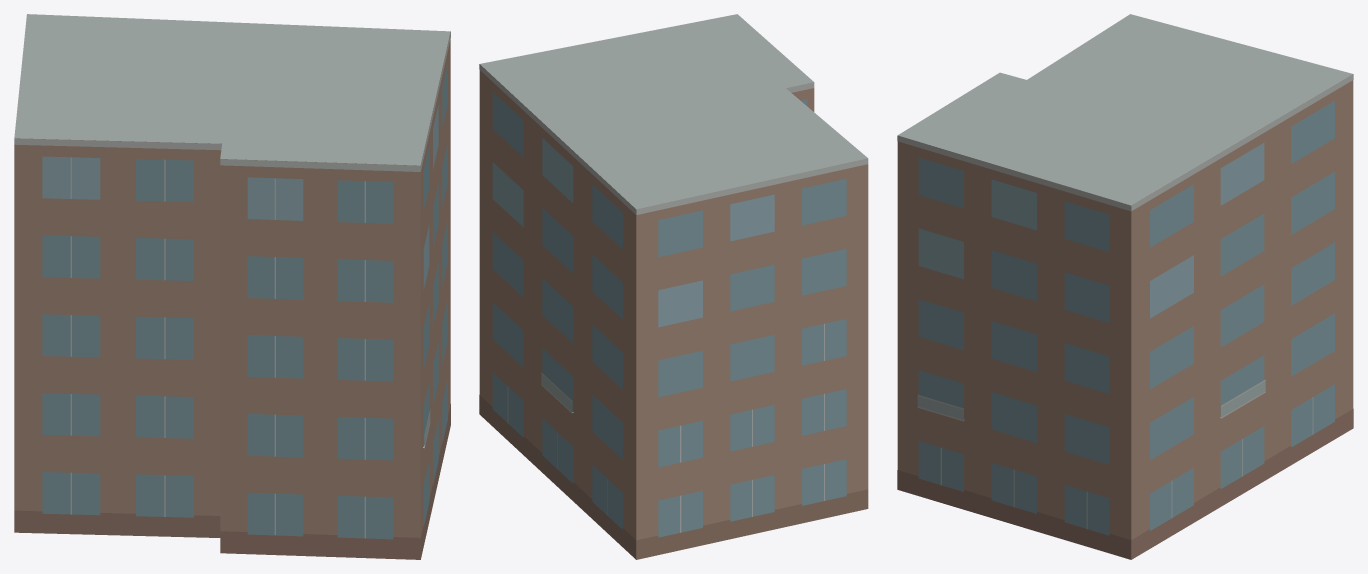
The model's file is survey-upis-32782631.glb.
3 views of the same model, side by side, from view 1: azimuth 30°, elevation 25°; view 2: azimuth 150°, elevation 25°; view 3: azimuth 270°, elevation 25° (orthographic). The views are drawn at different scales.
Parts seen in each view (by area): view 1: survey-upis-32782631.tmp; view 2: survey-upis-32782631.tmp; view 3: survey-upis-32782631.tmp.
Boxes of the visible parts, box(x1,y1,x2,y2) form: survey-upis-32782631.tmp: box(14, 14, 450, 559); survey-upis-32782631.tmp: box(479, 14, 868, 559); survey-upis-32782631.tmp: box(897, 14, 1353, 559).
Size of the model in its own units: 17.23 by 14.85 by 17.33.
